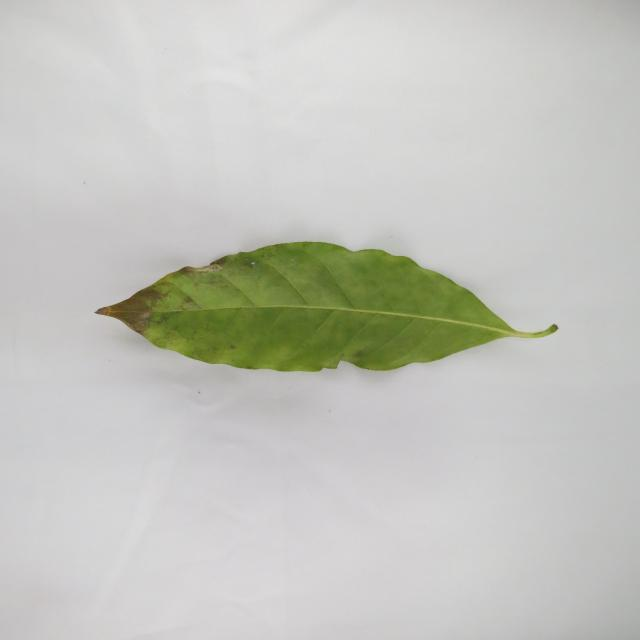DeficienciaNutricional-Potasio: (97, 242, 557, 371)
